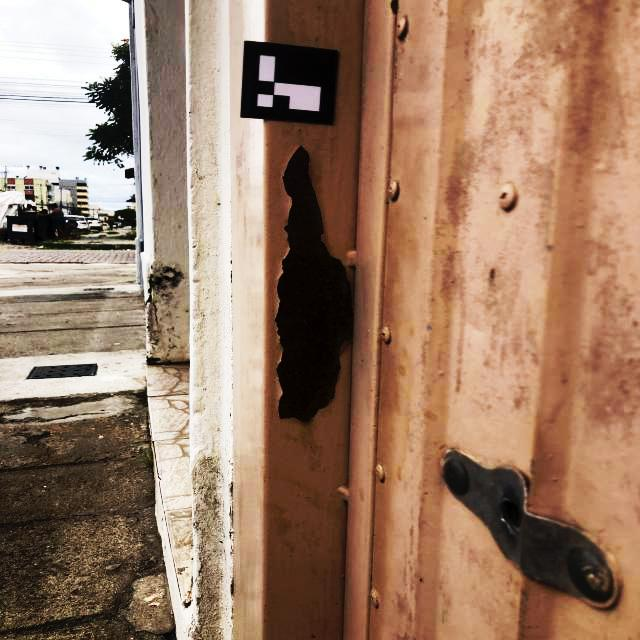Corrosion: (274, 146, 353, 422), (390, 0, 399, 16)
